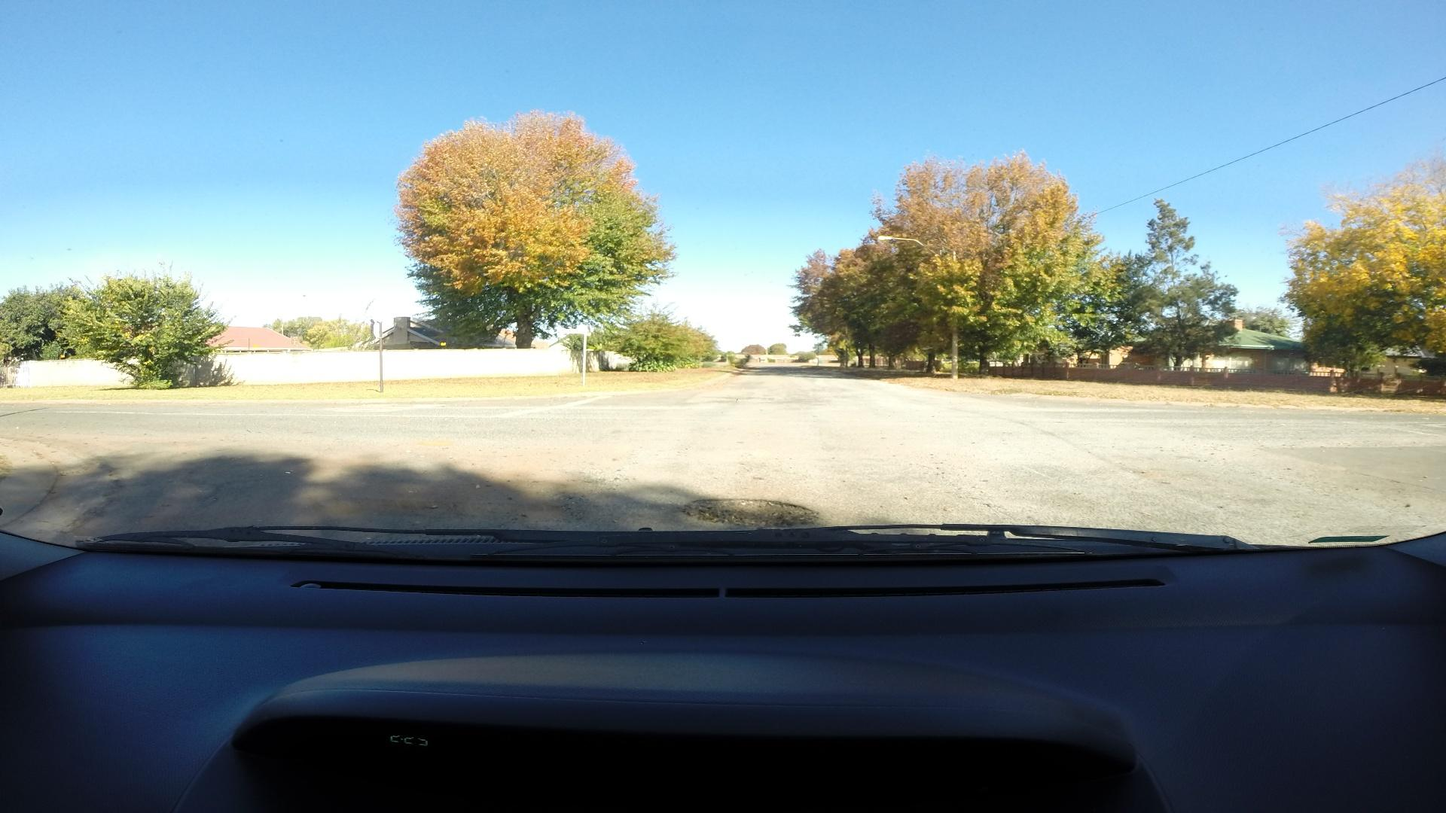pothole: (678, 494, 822, 528)
